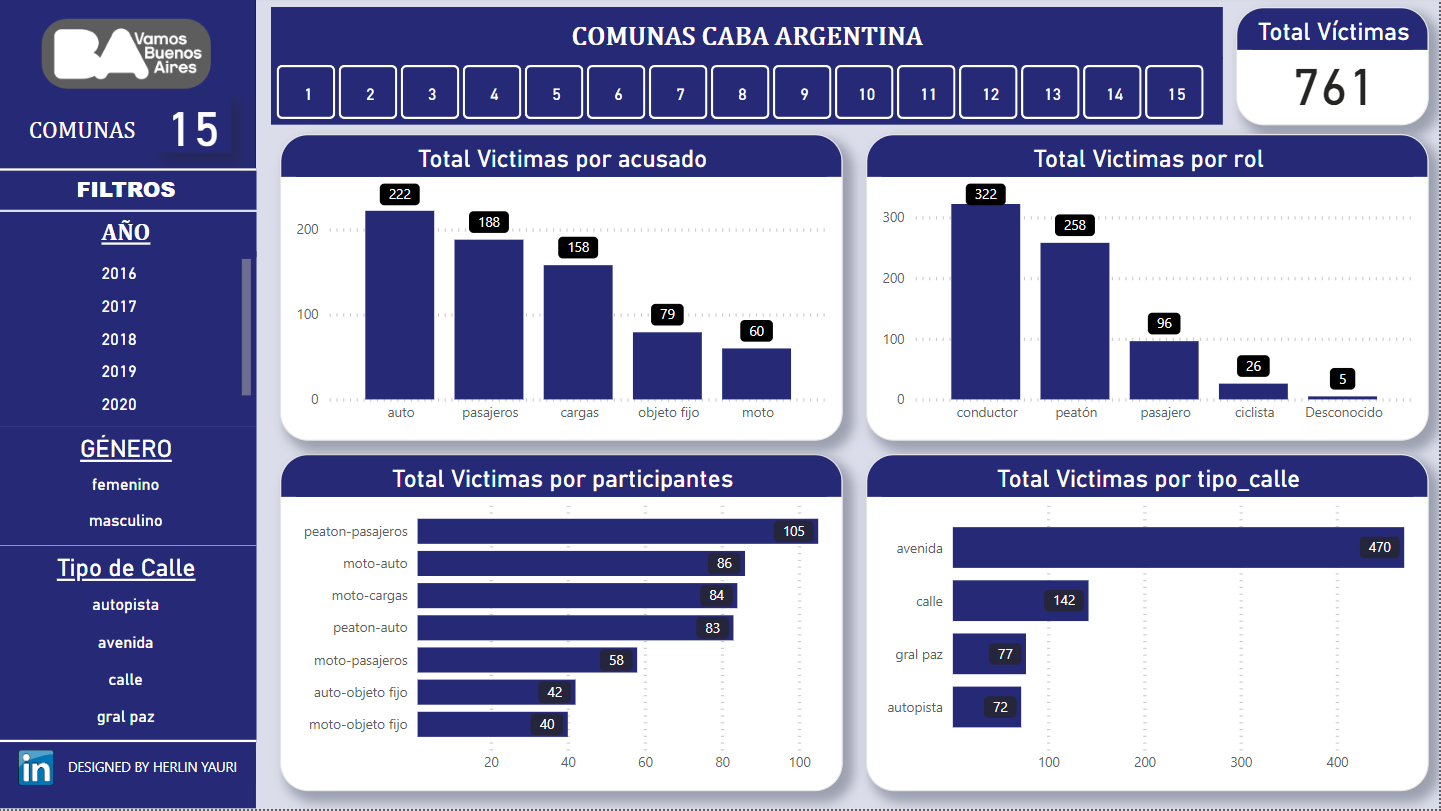

The page's visual inventory and layout, read from the dashboard file:
{"tool":"powerbi","page":{"name":"Análisis por Dimensiones","canvas":[1280,720],"ordinal":1},"visuals":[{"type":"advancedSlicerVisual","title":" _AÑO_","fields":{"Values":["DimTiempo.Año"]},"box":[0,225.2,231.4,156.1],"z":0},{"type":"advancedSlicerVisual","title":"GÉNERO","fields":{"Values":["FacDB.sexo_victima"]},"box":[0,381.3,230.5,104.6],"z":1000},{"type":"advancedSlicerVisual","title":"Tipo de Calle","fields":{"Values":["DimTipoCalle.tipo_calle"]},"box":[0,486.4,230.9,173.6],"z":2000},{"type":"shape","box":[0,646.8,230.5,72.9],"z":3000},{"type":"image","box":[11.7,662.4,47.7,41.8],"z":4000},{"type":"textbox","box":[58.4,668.2,172.2,30.2],"z":5000},{"type":"shape","box":[0,637,231,46],"z":6000},{"type":"textbox","box":[0,151.7,230.5,37],"z":7000},{"type":"shape","box":[0,0,230.5,153.4],"z":8000},{"type":"clusteredBarChart","fields":{"Category":["FacDB.participantes"],"Y":["DimAcusado.Total Víctimas"]},"box":[251.8,405.2,499.2,298.8],"z":9000},{"type":"card","title":"Total Víctimas","fields":{"Values":["DAX.Total Victimas"]},"box":[1099.5,8.9,171.1,104.6],"z":10000},{"type":"image","box":[35.5,13.6,160,74.5],"z":11000},{"type":"card","fields":{"Values":["DimAcusado.Cant_Comunas"]},"box":[141.8,88.2,66.4,50],"z":12000},{"type":"textbox","box":[23.6,100.9,113.6,40.9],"z":13000},{"type":"shape","box":[0,146.3,231.4,13.3],"z":14000},{"type":"advancedSlicerVisual","title":"COMUNAS CABA","fields":{"Values":["DimComuna.CODCOM"]},"box":[243.8,53.2,844.1,60.3],"z":15000},{"type":"textbox","box":[243.8,8.9,844.1,46.1],"z":16000},{"type":"textbox","box":[0,190.6,230.5,39.9],"z":17000},{"type":"columnChart","fields":{"Category":["FacDB.rol"],"Y":["DimAcusado.Total Víctimas"]},"box":[771.3,121.6,499,272.3],"z":18000},{"type":"clusteredBarChart","fields":{"Y":["DimAcusado.Total Víctimas"],"Category":["FacDB.tipo_calle"]},"box":[771.4,405.2,499.2,298.8],"z":19000},{"type":"columnChart","fields":{"Y":["DimAcusado.Total Víctimas"],"Category":["DimAcusado.acusado"]},"box":[251.9,121.6,499,272.3],"z":20000}]}

Visuals, with their boxes in screenshot pixels (x1, y1, x2, y2), scaled from the page's 1280x720 canvas onto the 1441x811 screenshot:
" _AÑO_" advancedSlicerVisual: 0:254:261:429
"GÉNERO" advancedSlicerVisual: 0:429:259:547
"Tipo de Calle" advancedSlicerVisual: 0:548:260:743
shape: 0:729:259:810
image: 13:746:67:793
textbox: 66:753:260:787
shape: 0:718:260:769
textbox: 0:171:259:213
shape: 0:0:259:173
clusteredBarChart - FacDB.participantes x DimAcusado.Total Víctimas: 283:456:845:793
"Total Víctimas" card: 1238:10:1430:128
image: 40:15:220:99
card - DimAcusado.Cant_Comunas: 160:99:234:156
textbox: 27:114:154:160
shape: 0:165:261:180
"COMUNAS CABA" advancedSlicerVisual: 274:60:1225:128
textbox: 274:10:1225:62
textbox: 0:215:259:260
columnChart - FacDB.rol x DimAcusado.Total Víctimas: 868:137:1430:444
clusteredBarChart - DimAcusado.Total Víctimas x FacDB.tipo_calle: 868:456:1430:793
columnChart - DimAcusado.Total Víctimas x DimAcusado.acusado: 284:137:845:444
